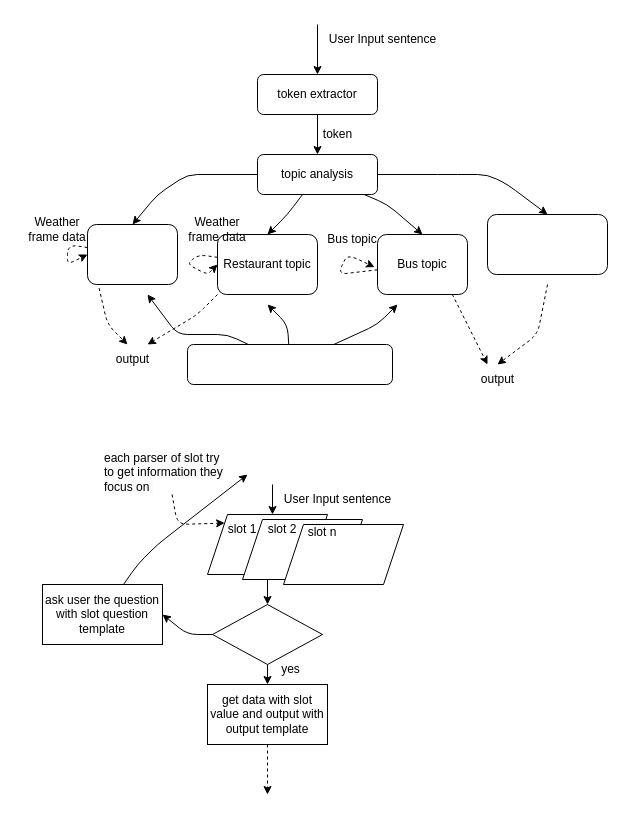
Image size: 625x820. Some labels were removed from this diagram. Here are the shapes that lost their labels. From the top down, the box of each, then its label:
(86, 224, 178, 284): Weather topic
(486, 214, 608, 274): simple conversation
(186, 344, 392, 384): mock API for different data request
(212, 604, 322, 664): if all slot done
